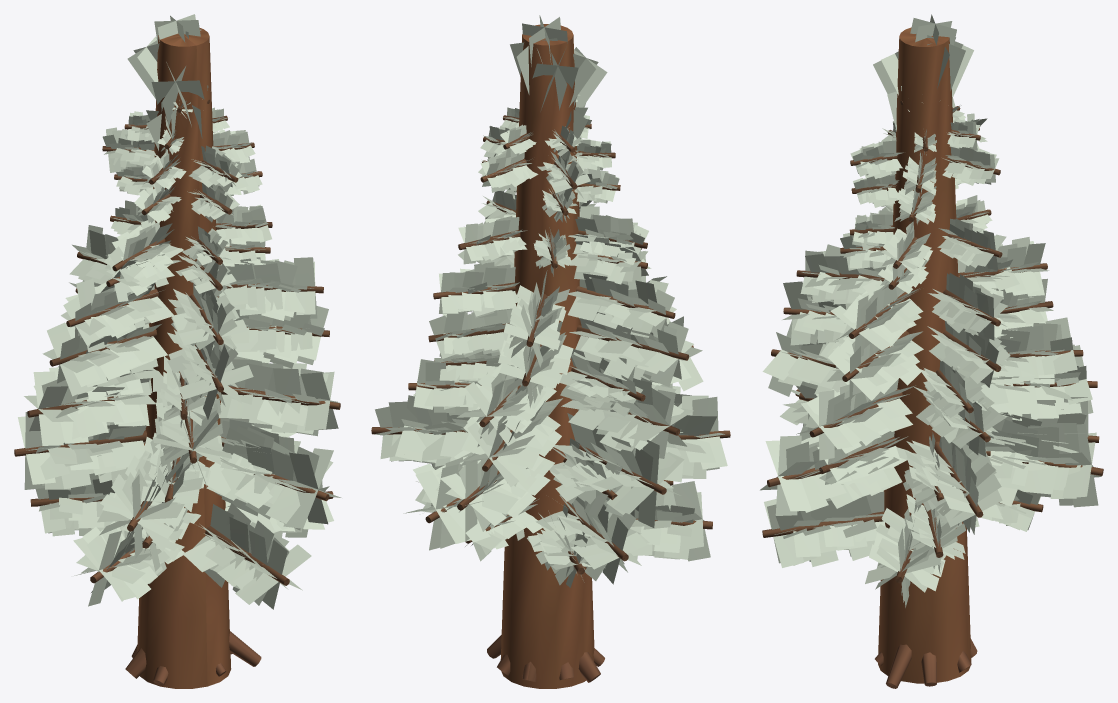
File: mature-lod0.glb
3 views of the same model, side by side, from view 1: azimuth 30°, elevation 25°; view 2: azimuth 150°, elevation 25°; view 3: azimuth 270°, elevation 25° (orthographic).
Parts seen in each view (by area): view 1: pine-needle-sprays, pine-trunk-branches-buried-roots-ground-blend; view 2: pine-needle-sprays, pine-trunk-branches-buried-roots-ground-blend; view 3: pine-needle-sprays, pine-trunk-branches-buried-roots-ground-blend.
Boxes of the visible parts, bbox=[...] form: pine-needle-sprays: bbox=[18, 14, 341, 609]; pine-trunk-branches-buried-roots-ground-blend: bbox=[14, 28, 340, 688]; pine-needle-sprays: bbox=[374, 15, 727, 587]; pine-trunk-branches-buried-roots-ground-blend: bbox=[371, 24, 730, 688]; pine-needle-sprays: bbox=[760, 14, 1101, 607]; pine-trunk-branches-buried-roots-ground-blend: bbox=[762, 27, 1103, 688].
Size of the model in its own units: 11.78 by 24.93 by 12.09.
